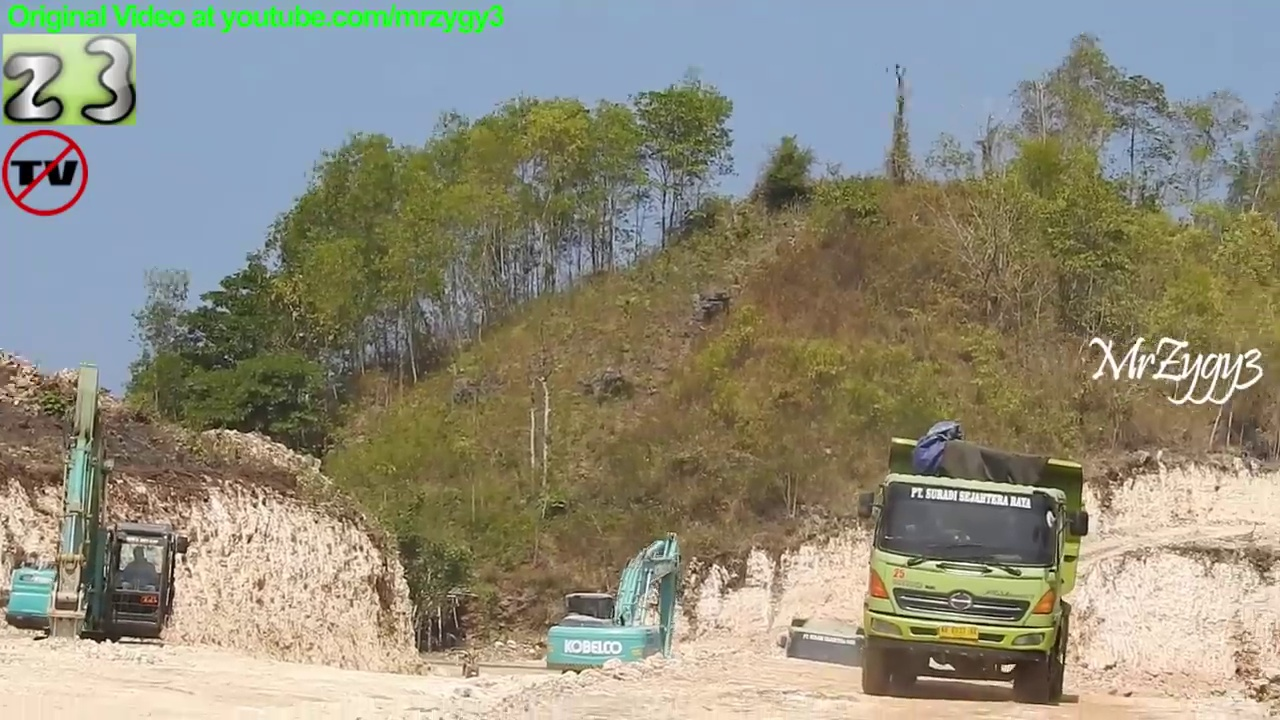excavator: (2, 361, 193, 688), (540, 528, 684, 705)
truck: (853, 431, 1095, 710), (774, 612, 884, 720)
